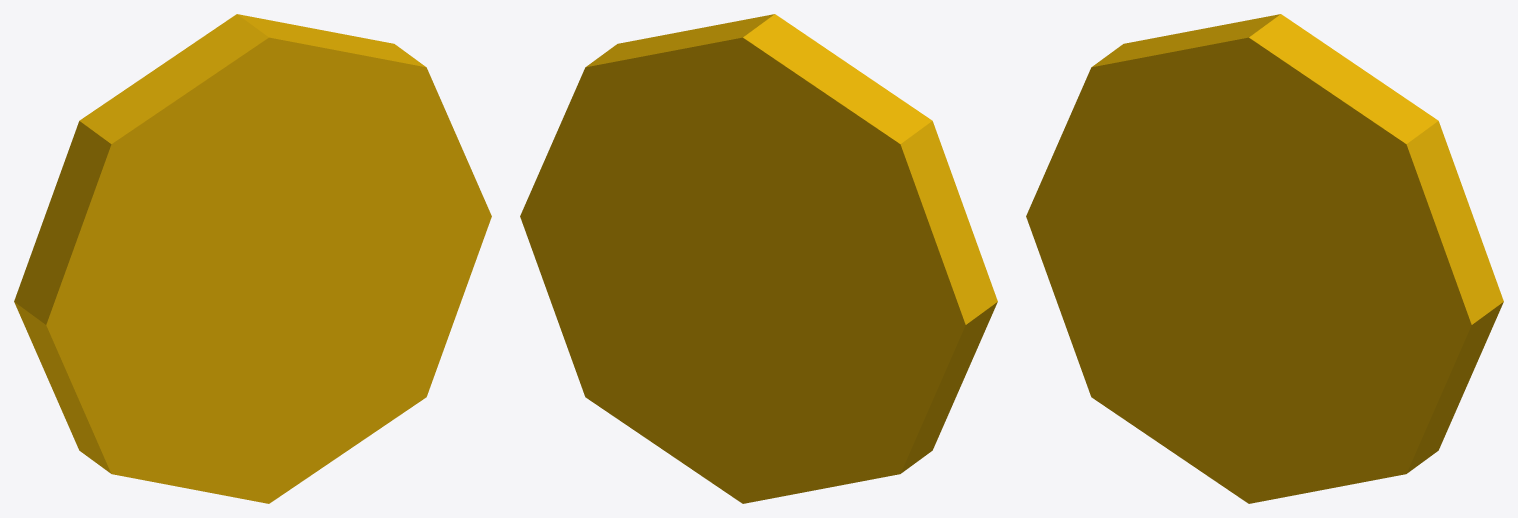
The model's file is coin.fbx.
The picture shows the model from 3 angles, left to right: view 1: azimuth 30°, elevation 25°; view 2: azimuth 150°, elevation 25°; view 3: azimuth 330°, elevation 25°; orthographic projection.
Visible parts, largest first — view 1: COIN; view 2: COIN; view 3: COIN.
Part boxes in pixels (box(x1,y1,x2,y2)): COIN: box(14, 14, 491, 503); COIN: box(520, 14, 997, 503); COIN: box(1026, 14, 1503, 503).
Size of the model in its own units: 40 by 40 by 5.
